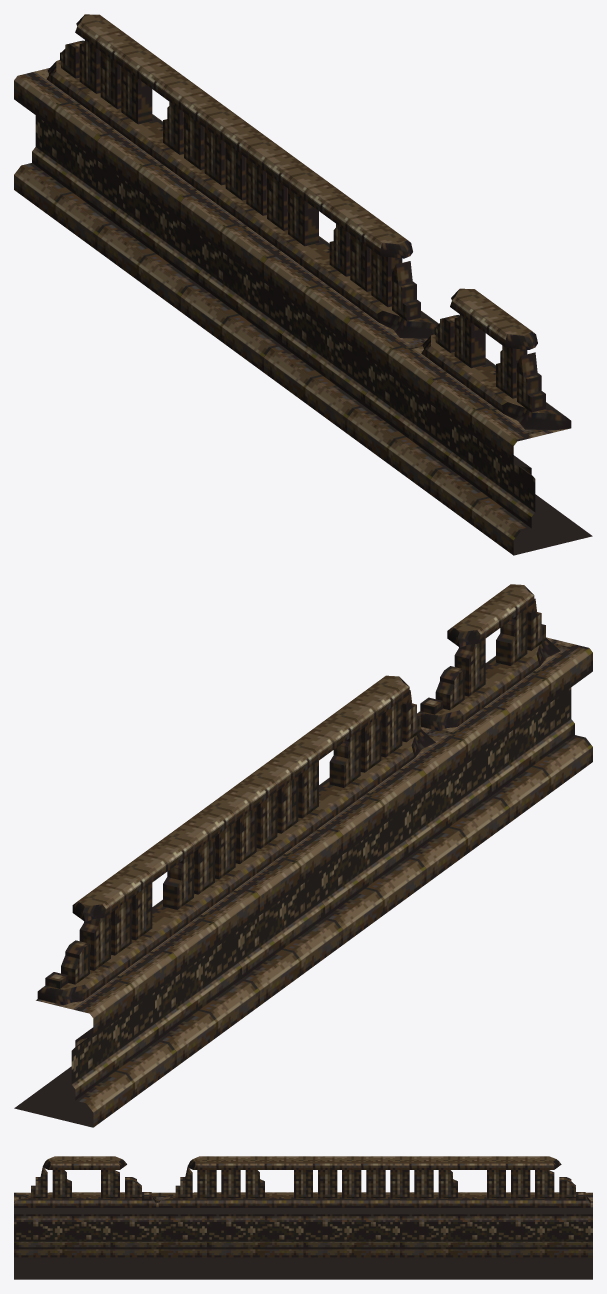
The model's file is EnvMdrMD_Ruins_D_Fence_Spline_A.FBX.
3 views of the same model, one above another, from view 1: azimuth 30°, elevation 25°; view 2: azimuth 150°, elevation 25°; view 3: azimuth 270°, elevation 25° (orthographic). The views are drawn at different scales.
Parts seen in each view (by area): view 1: EnvMdrMD_Ruins_D_Fence_Spline_A; view 2: EnvMdrMD_Ruins_D_Fence_Spline_A; view 3: EnvMdrMD_Ruins_D_Fence_Spline_A.
Part boxes in pixels (bbox=[...]): EnvMdrMD_Ruins_D_Fence_Spline_A: bbox=[14, 14, 592, 555]; EnvMdrMD_Ruins_D_Fence_Spline_A: bbox=[14, 584, 592, 1127]; EnvMdrMD_Ruins_D_Fence_Spline_A: bbox=[14, 1156, 592, 1279].
Size of the model in its own units: 110 by 250 by 1200.
1 material, 1 textured.
